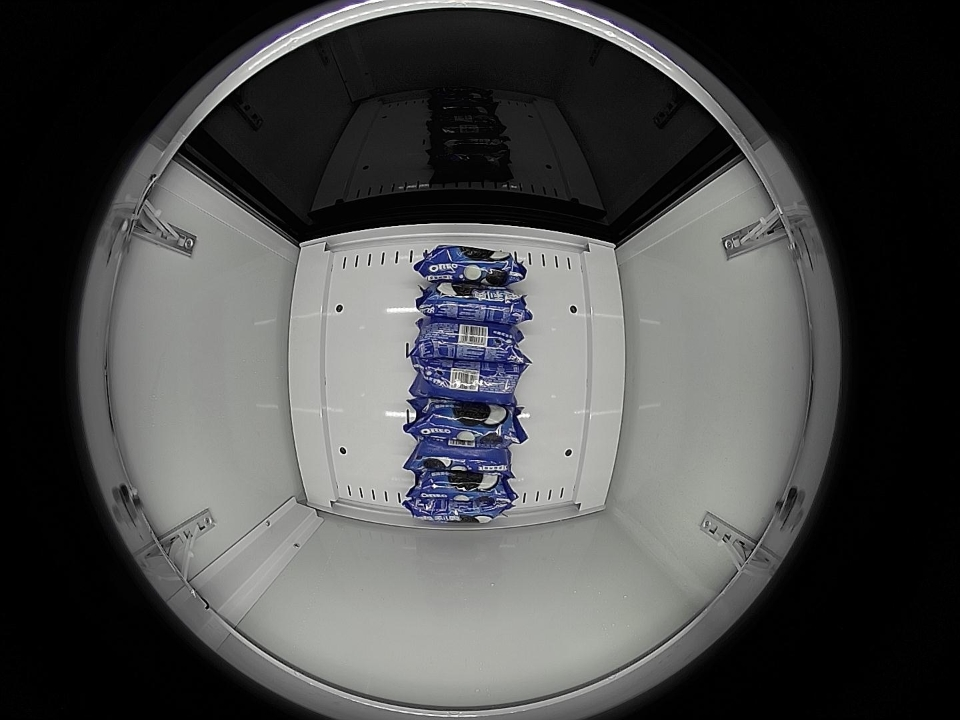aoliao: (406, 402, 526, 444), (410, 361, 522, 403), (409, 323, 526, 363), (414, 284, 527, 324), (412, 246, 522, 282), (408, 443, 513, 478), (408, 474, 516, 501), (409, 504, 505, 528)
